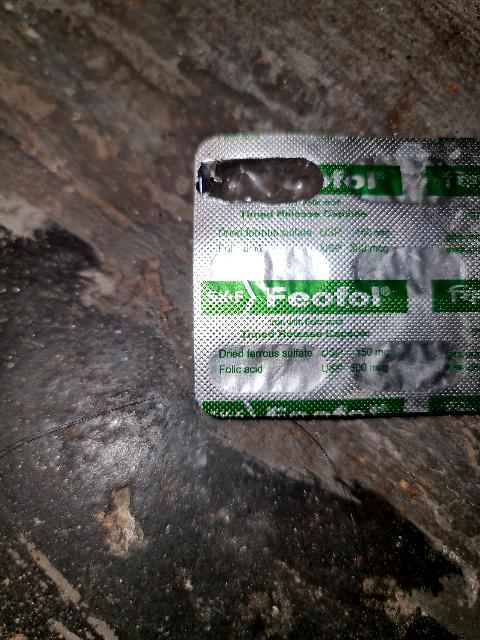medicine: (189, 131, 480, 427)
